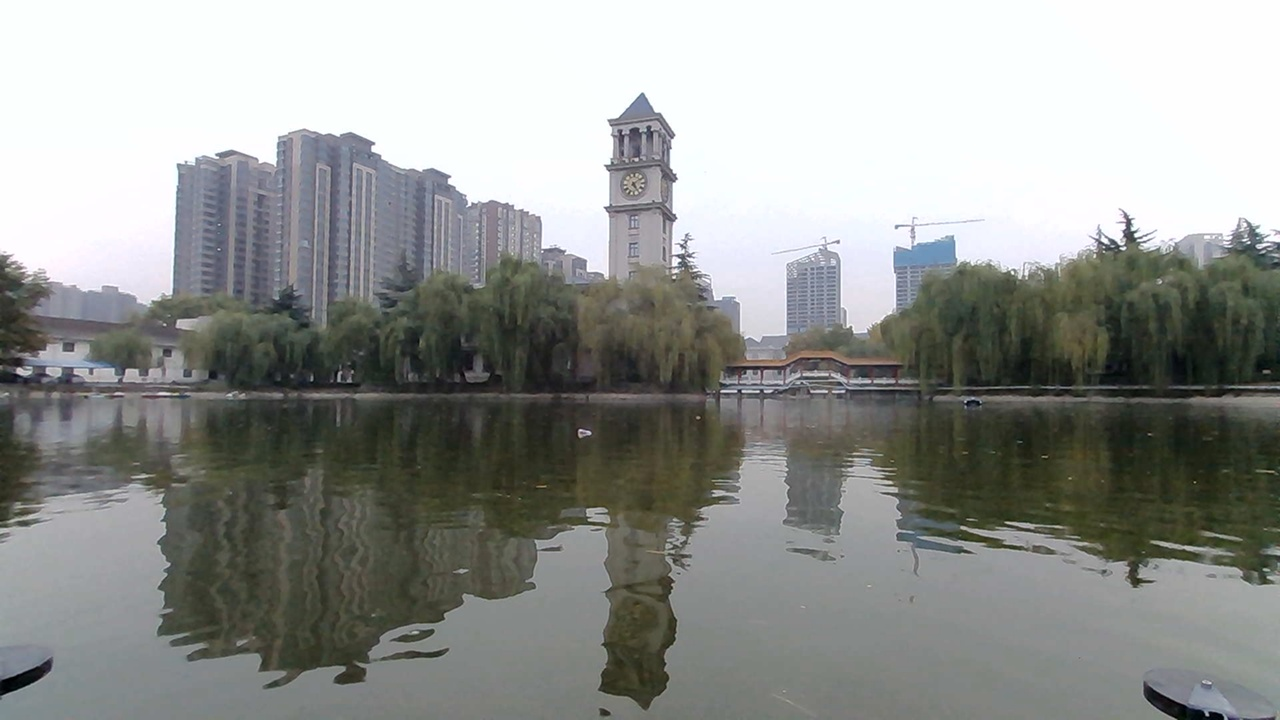bottle: (569, 412, 602, 437)
